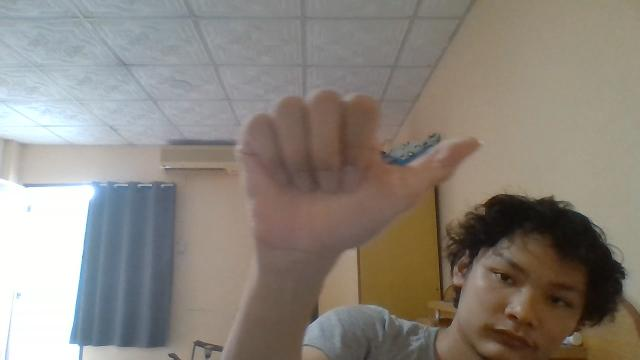left: (235, 88, 482, 260)
